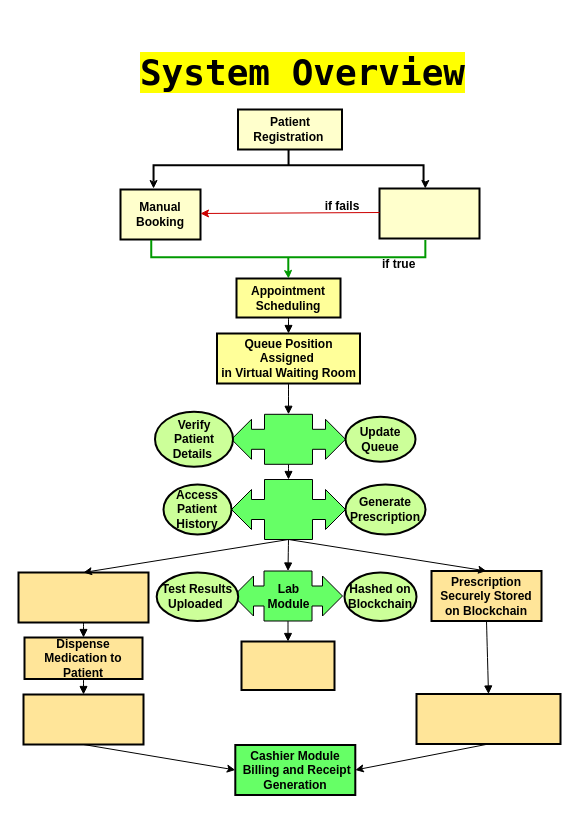
Some shapes in this 578 by 813 pixel diagram are drawn without their labels. The shapes that lost their labels are listed below. From the top down, each one's box as (x1, y1, x2, y2) in pixels, then its label:
(378, 187, 480, 239): AI Based Booking via Chatbot
(230, 413, 346, 464): Desk Module
(230, 478, 346, 540): Doctor Module
(17, 571, 149, 623): Pharmacy Module Validate Prescription Using Blockchain
(240, 640, 335, 690): Blockchain Verification for Lab Reports
(22, 693, 144, 745): Pharmacy Module: Update Patient Record
(415, 692, 561, 744): Notifications Sent to Patient for Prescription and Lab Updates
